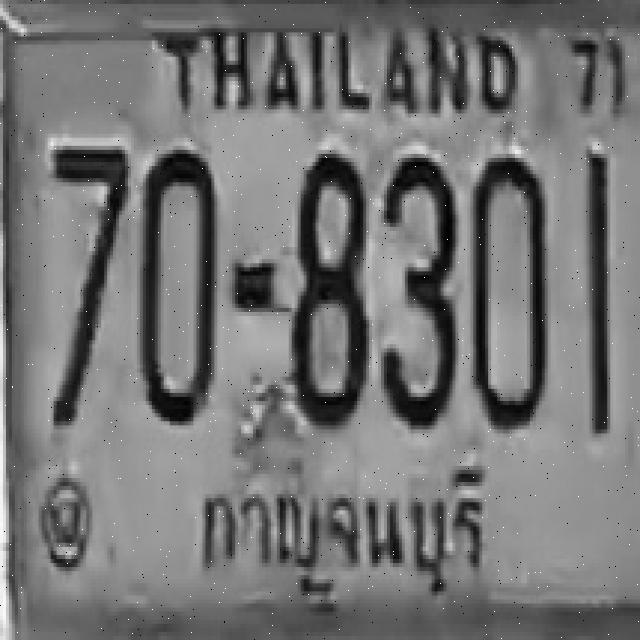0: (470, 152, 548, 432), (138, 146, 216, 422)
1: (584, 152, 610, 420)
3: (379, 154, 457, 426)
7: (49, 142, 127, 422)
8: (288, 150, 366, 426)
Kanchanaburi: (180, 458, 506, 602)
